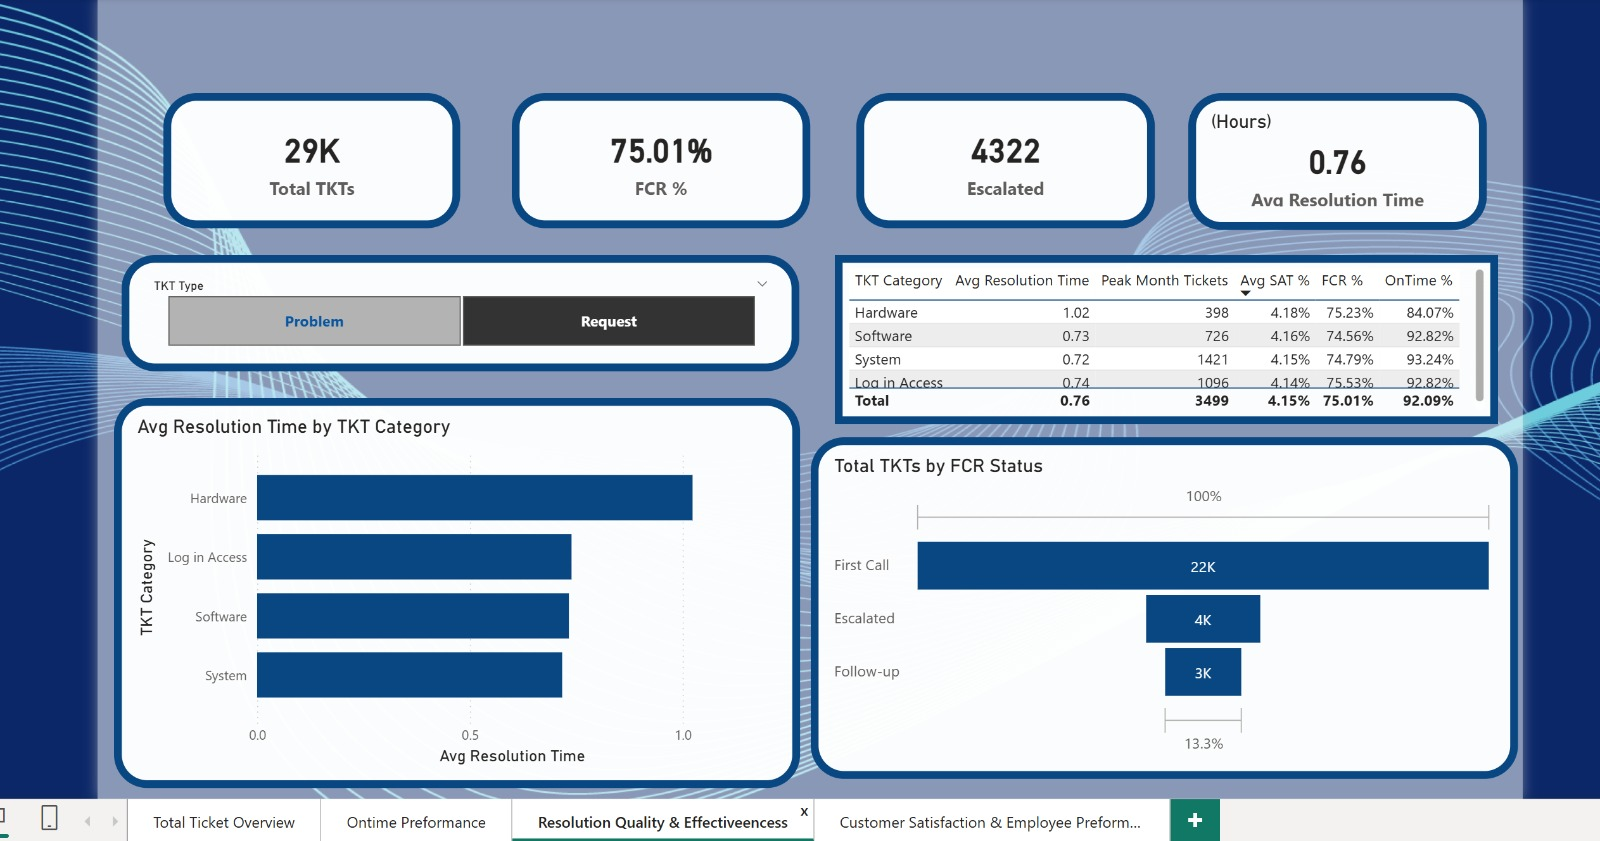

The page's visual inventory and layout, read from the dashboard file:
{"tool":"powerbi","page":{"name":"Resolution Quality & Effectiveencess","canvas":[1280,720],"ordinal":2},"visuals":[{"type":"card","fields":{"Values":["Date Table.Total TKTs"]},"box":[59.4,85.5,266.7,121.7],"z":0},{"type":"funnel","fields":{"Category":["Tickets.FCR Status"],"Y":["Date Table.Total TKTs"]},"box":[640.6,394.2,634.8,307.2],"z":1000},{"type":"tableEx","fields":{"Values":["Tickets.TKT Category","Date Table.Avg Resolution Time","Date Table.Peak Month Tickets","Tickets.Avg SAT %","Tickets.FCR %","Tickets.OnTime %"]},"box":[662.3,230.4,595.7,152.2],"z":2000},{"type":"clusteredBarChart","fields":{"Category":["Tickets.TKT Category"],"Y":["Date Table.Avg Resolution Time"]},"box":[14.5,359.4,615.9,350.7],"z":3000},{"type":"card","fields":{"Values":["Tickets.FCR %"]},"box":[372.5,85.5,268.1,121.7],"z":4000},{"type":"card","fields":{"Values":["Tickets.Escalated"]},"box":[681.2,85.5,268.1,121.7],"z":5000},{"type":"card","title":"(Hours)","fields":{"Values":["Date Table.Avg Resolution Time"]},"box":[979.7,85.5,268.1,123.2],"z":6000},{"type":"slicer","fields":{"Values":["Tickets.TKT Type"]},"box":[21.7,230.4,608.7,104.3],"z":7000}]}

Visuals, with their boxes in screenshot pixels (x1, y1, x2, y2):
card - Date Table.Total TKTs: (162,95,458,230)
funnel - Tickets.FCR Status x Date Table.Total TKTs: (808,438,1514,780)
tableEx - Tickets.TKT Category x Date Table.Avg Resolution Time: (832,256,1495,425)
clusteredBarChart - Tickets.TKT Category x Date Table.Avg Resolution Time: (112,400,797,790)
card - Tickets.FCR %: (510,95,808,230)
card - Tickets.Escalated: (853,95,1151,230)
"(Hours)" card: (1185,95,1483,232)
slicer - Tickets.TKT Type: (120,256,797,372)
